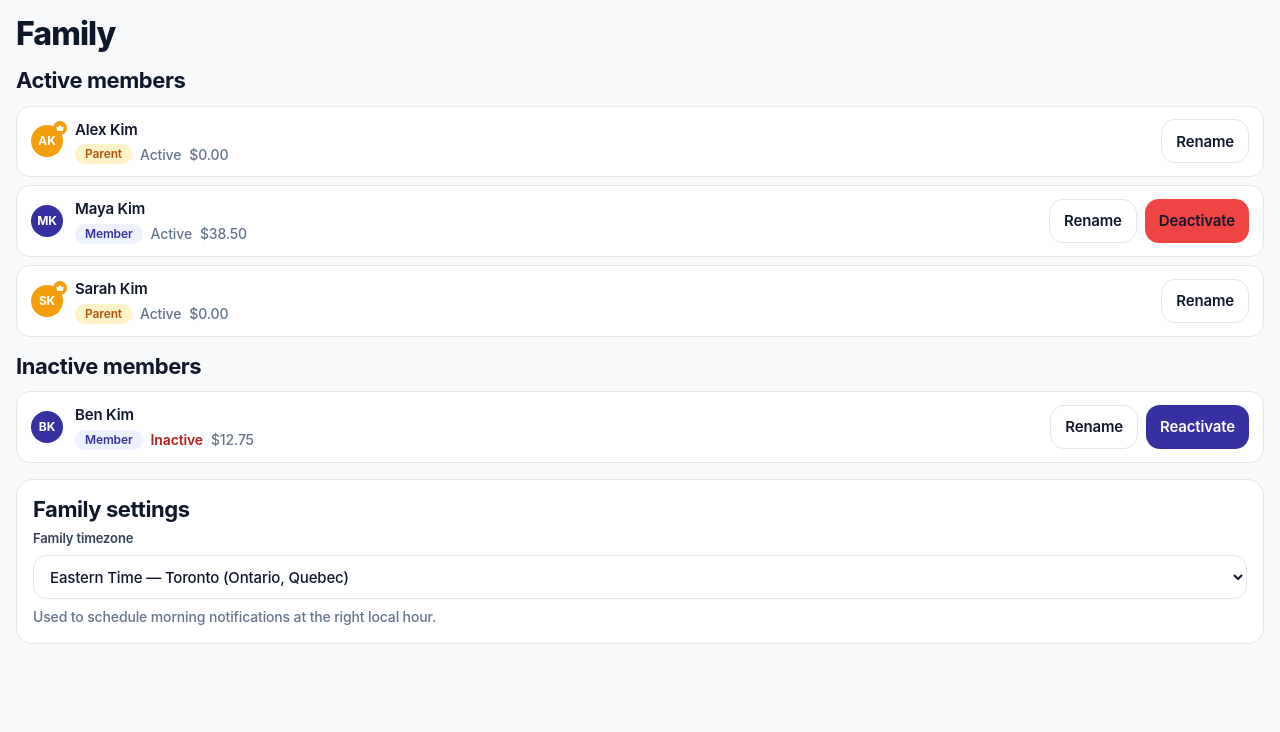
Test: FamilyManagementScreen — F13 family timezone settings (parent-only) › a rejected change surfaces the GENERIC error toast (no raw provider text leaks)
Select "Pacific Time — Vancouver (British Columbia)" in the dropdown labelled "Family timezone" at (640, 577), box [33,555,1247,599]
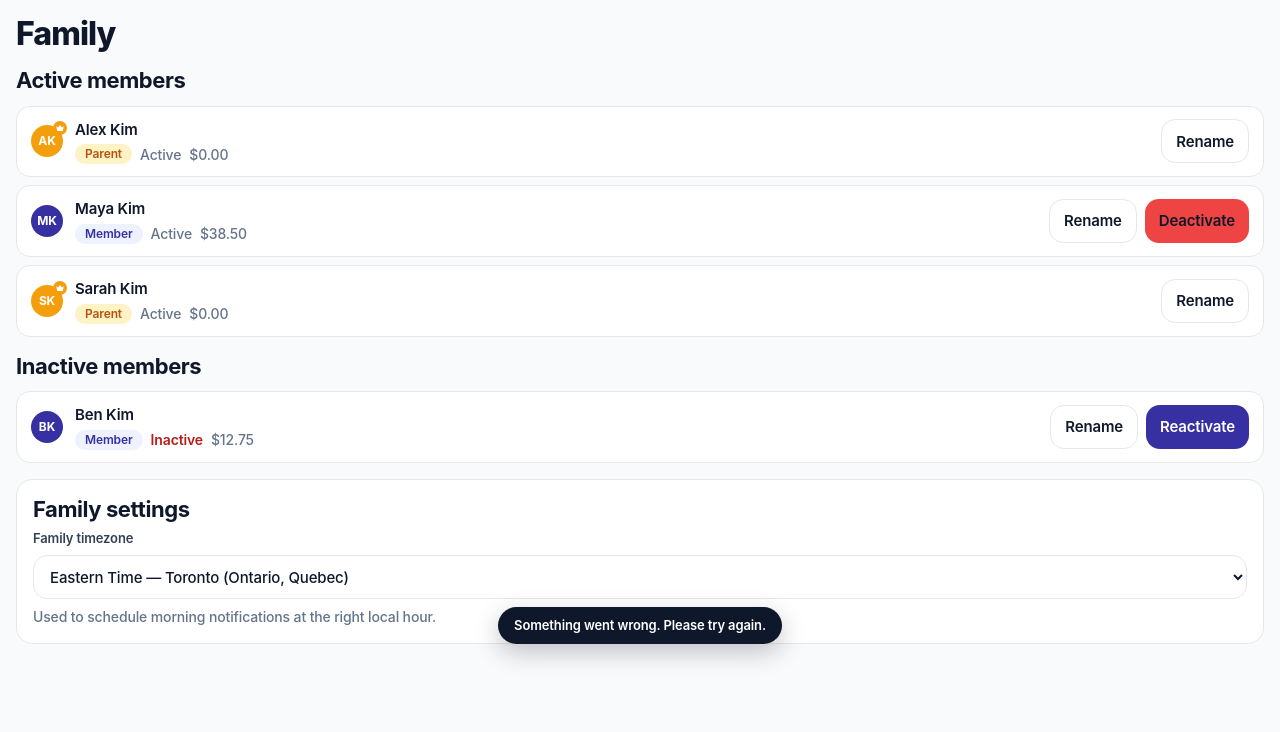
Result: the text "Something went wrong. Please try again." is shown at [498,607,782,644]
